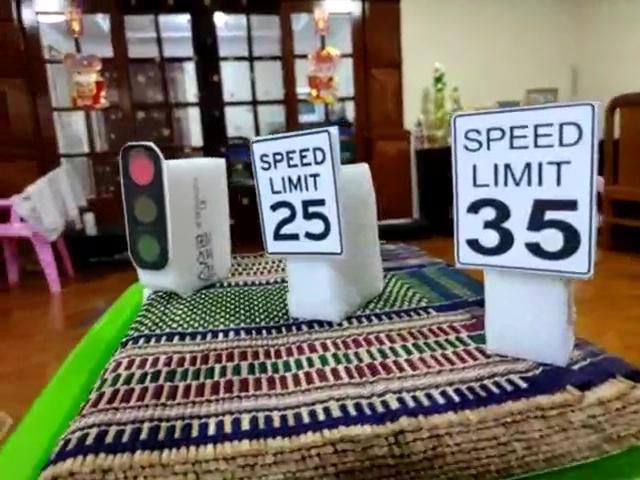Red Traffic Light: (116, 142, 169, 269)
Speed Limit 25: (248, 129, 344, 260)
Speed Limit 35: (450, 103, 597, 276)
